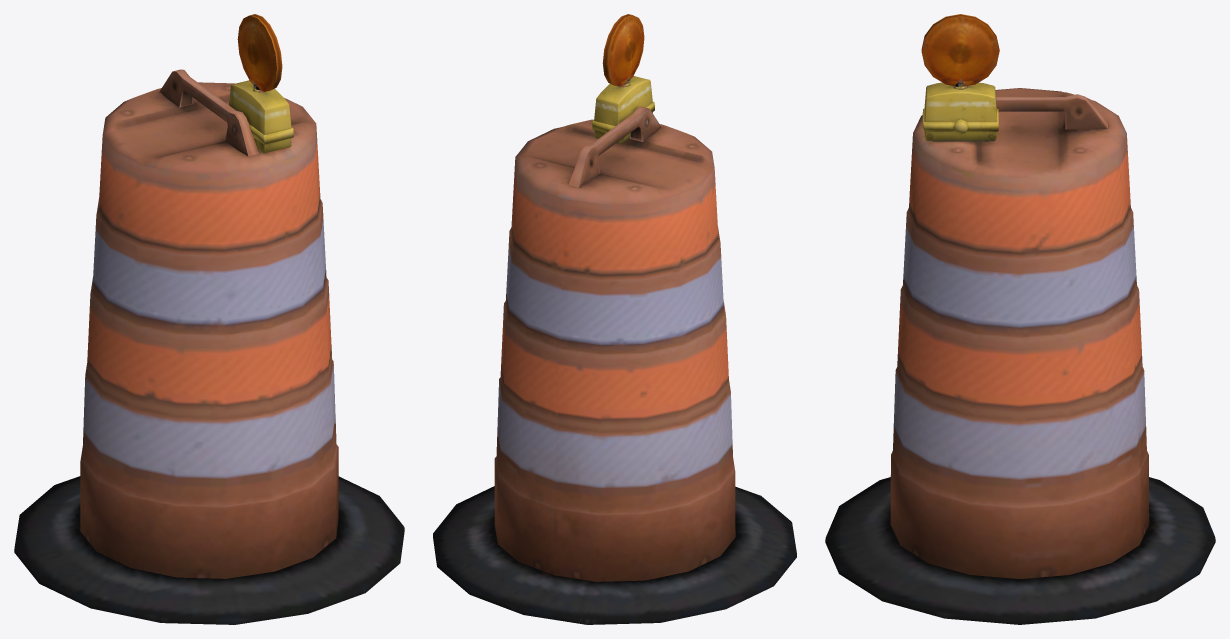
Rendered from traffic_barrel.glb.
3 views of the same model, side by side, from view 1: azimuth 30°, elevation 25°; view 2: azimuth 150°, elevation 25°; view 3: azimuth 270°, elevation 25° (orthographic). The views are drawn at different scales.
Parts seen in each view (by area): view 1: traffic_barrel; view 2: traffic_barrel; view 3: traffic_barrel.
Part boxes in pixels (x1,y1,x2,y2): traffic_barrel: (14,14,404,624); traffic_barrel: (433,14,796,624); traffic_barrel: (825,14,1215,624).
Bounding box in the file's own units: 0.705 × 1.07 × 0.705.
1 material, 1 textured.
